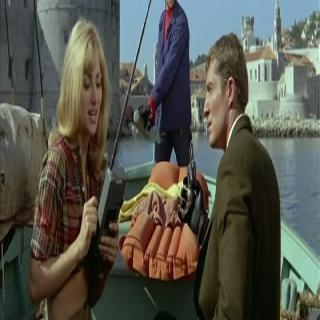gun: (178, 135, 198, 220)
